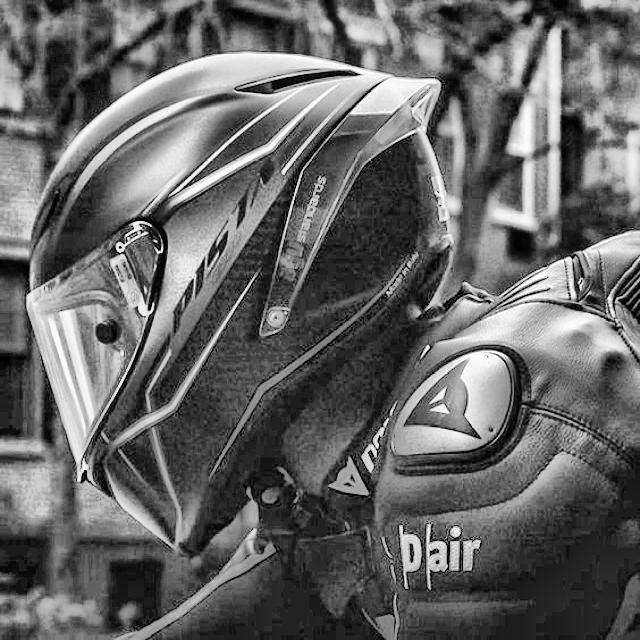Helmet: (24, 46, 466, 564)
